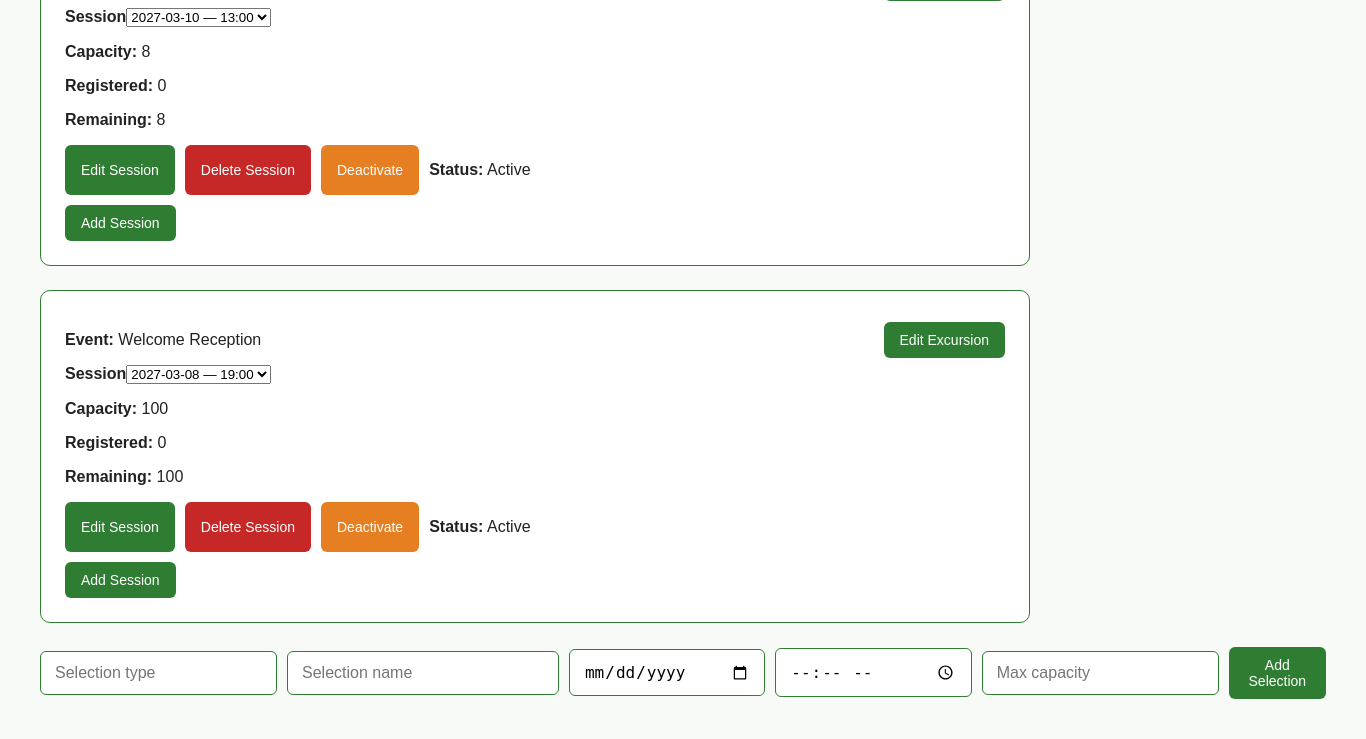
Scenario: TripManagement › adds a new trip selection with its first session
(page scrolled)
Type "Excursion" into the field with placeholder "Selection type" at (158,673), box x1=40 y1=651 x2=277 y2=695
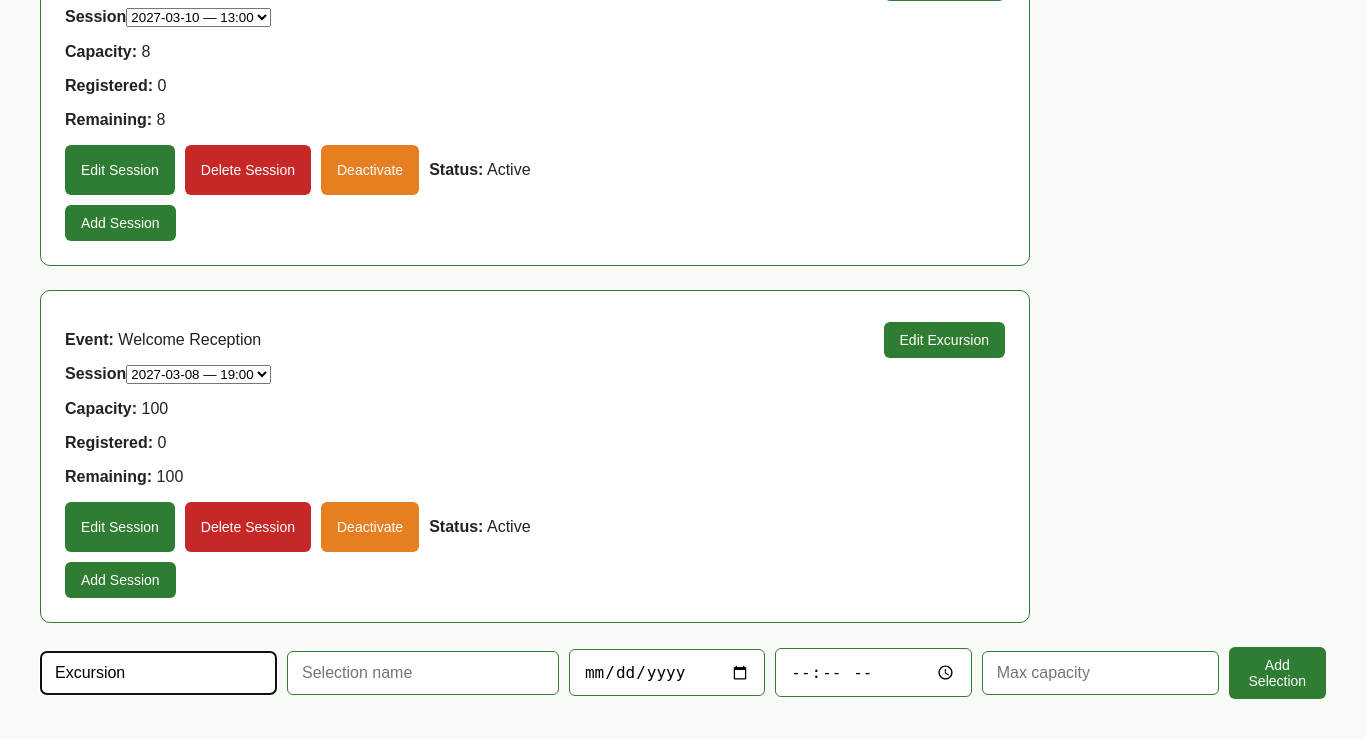
Type "Pirate Ship Adventure" into the field with placeholder "Selection name" at (423,673), box x1=287 y1=651 x2=559 y2=695
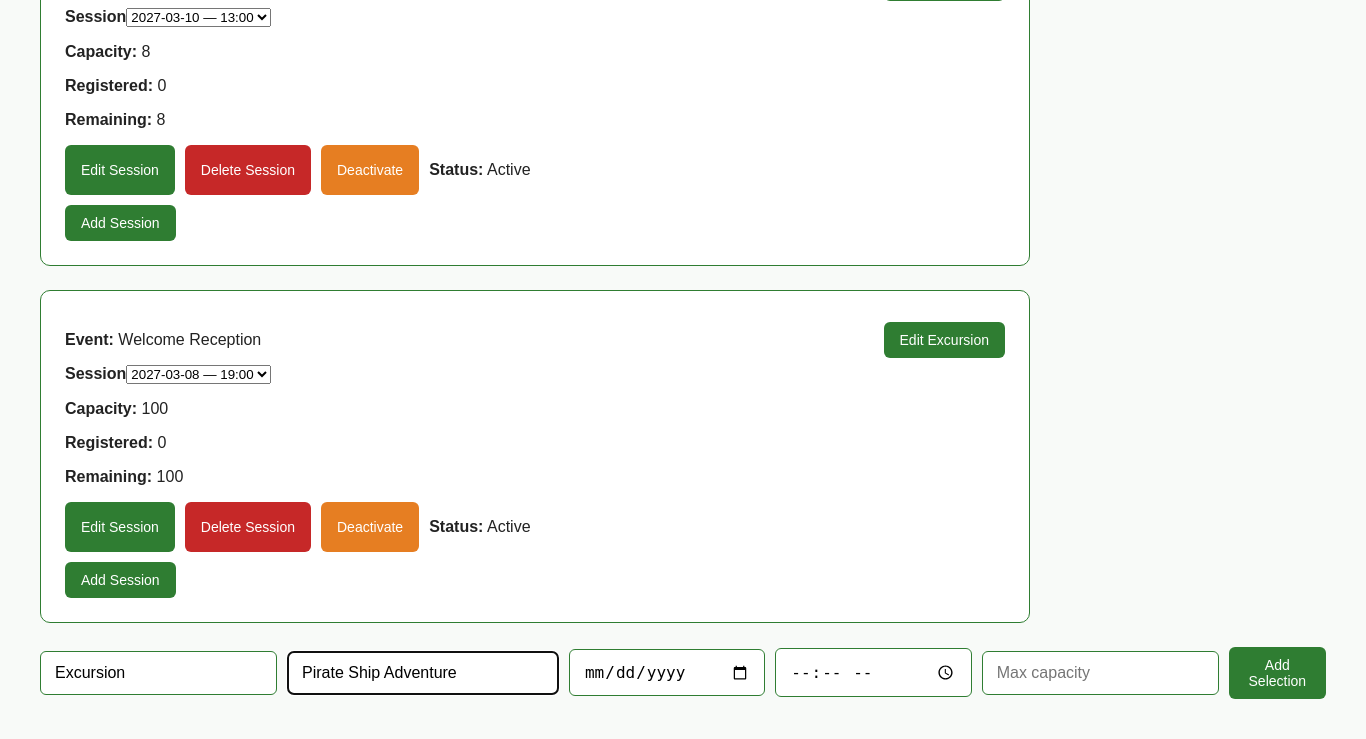
Type "2027-03-11" into the date field at (667,673), box x1=569 y1=649 x2=765 y2=696
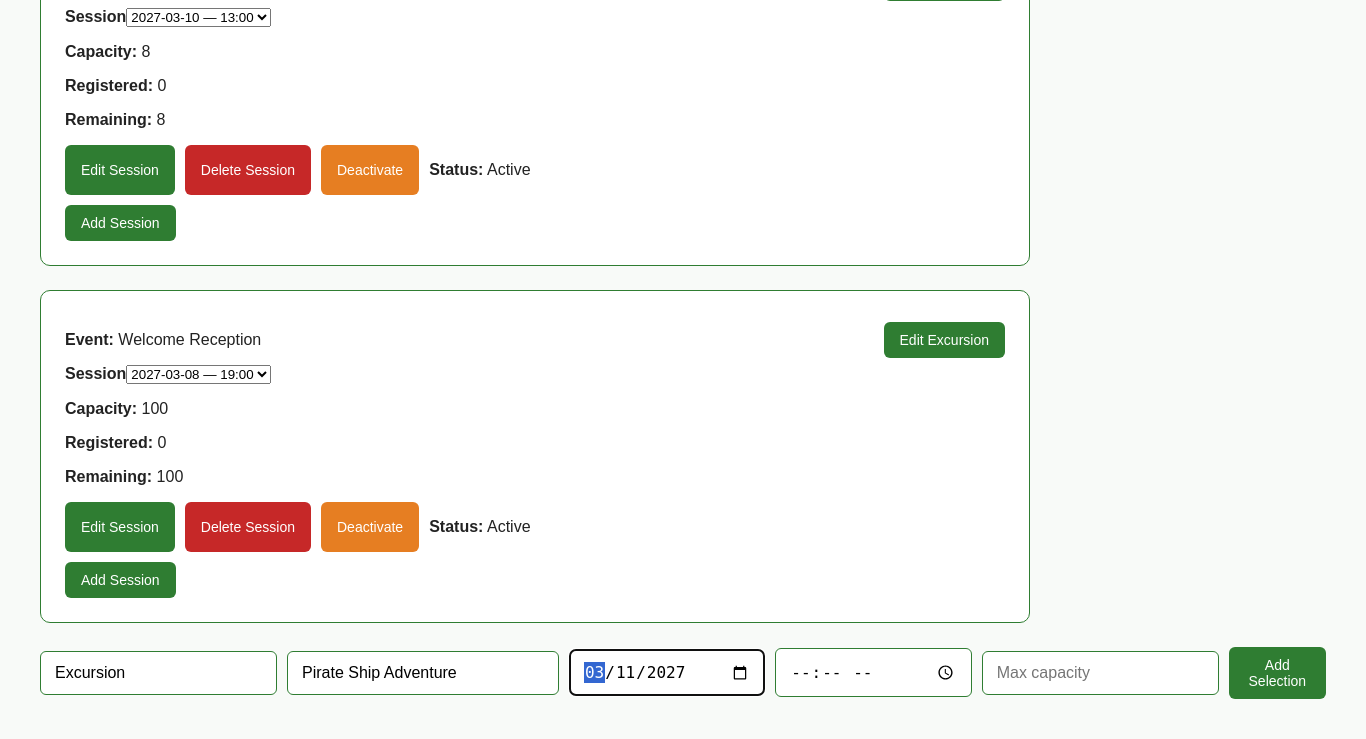
Type "14:30" into the time field at (873,673), box x1=775 y1=648 x2=972 y2=697
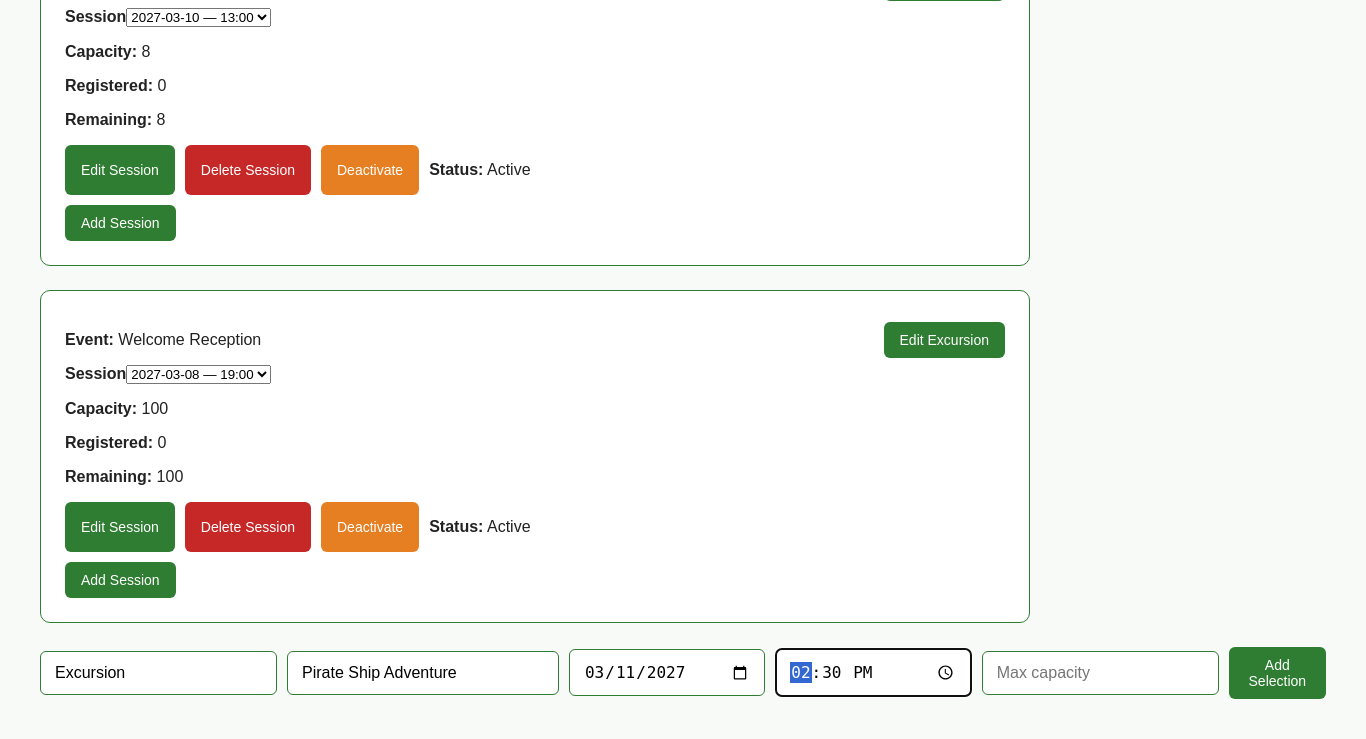
Type "20" into the number field with placeholder "Max capacity" at (1100,673), box x1=982 y1=651 x2=1219 y2=695
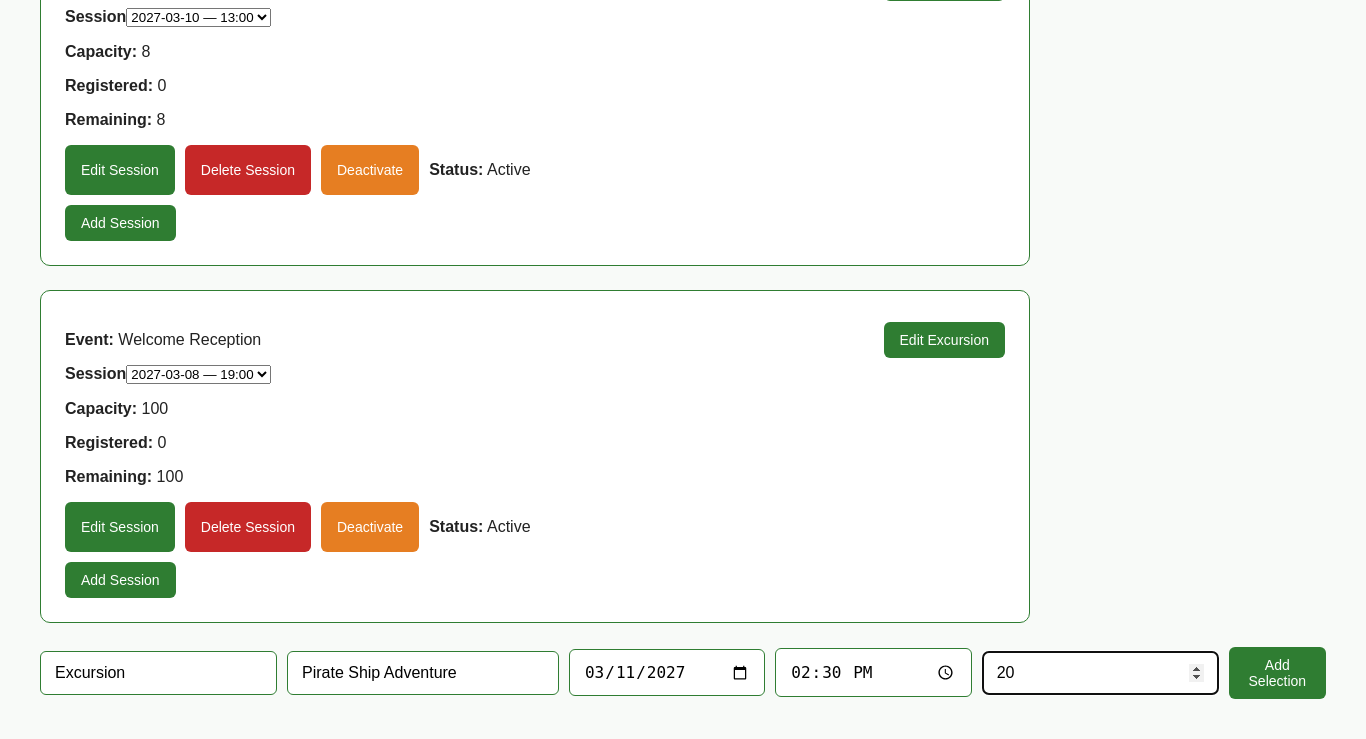
Click the button "Add Selection" at (1277,673), box x1=1229 y1=647 x2=1326 y2=699
(page scrolled)
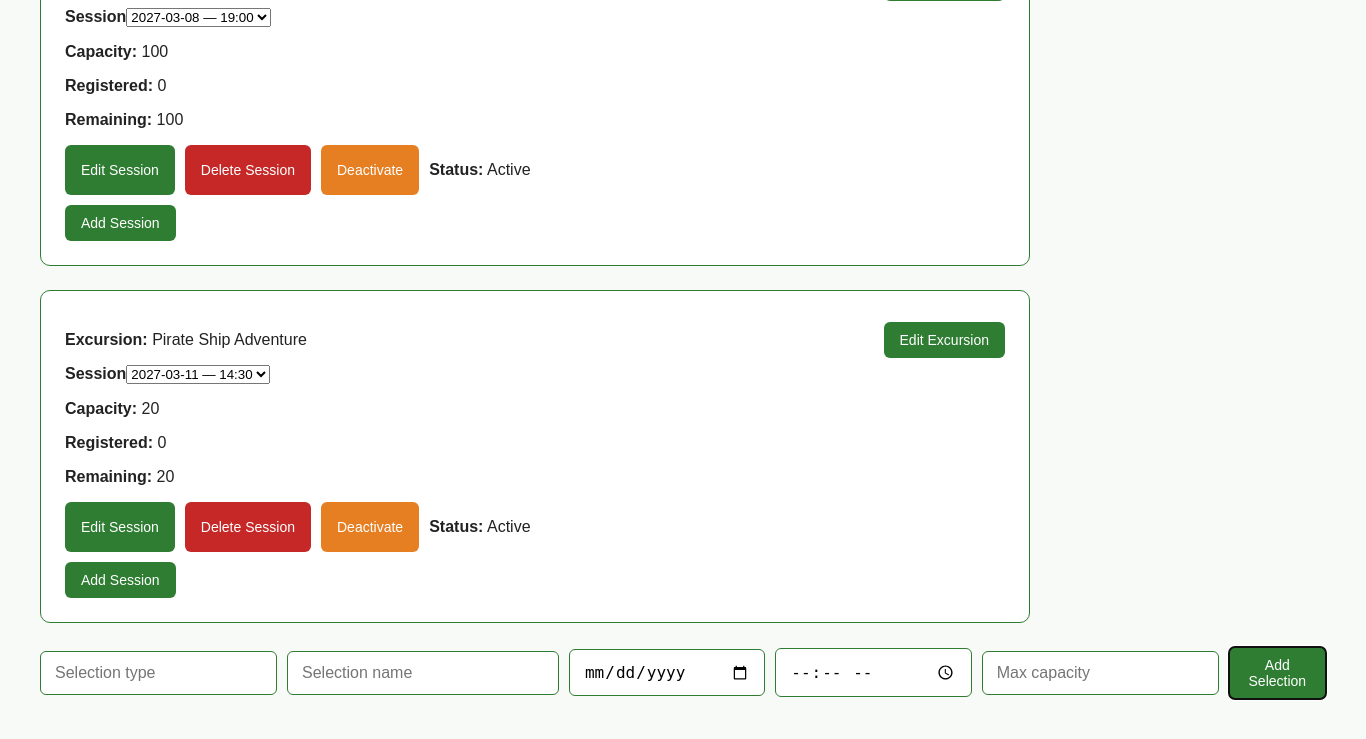
Result: the text "Pirate Ship Adventure" is shown at x1=152 y1=331 x2=307 y2=348
Result: the field with placeholder "Selection type" is empty at x1=40 y1=651 x2=277 y2=695
Result: the field with placeholder "Selection name" is empty at x1=287 y1=651 x2=559 y2=695
